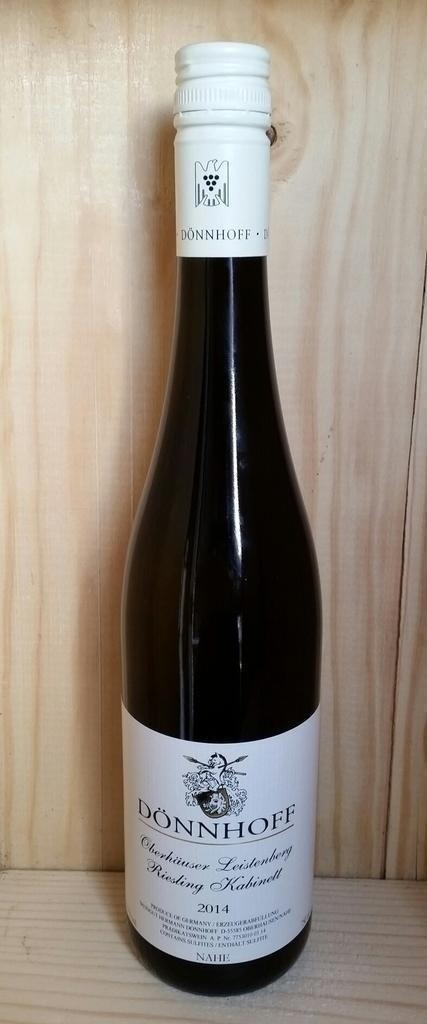bottle-glass: (117, 36, 327, 995)
